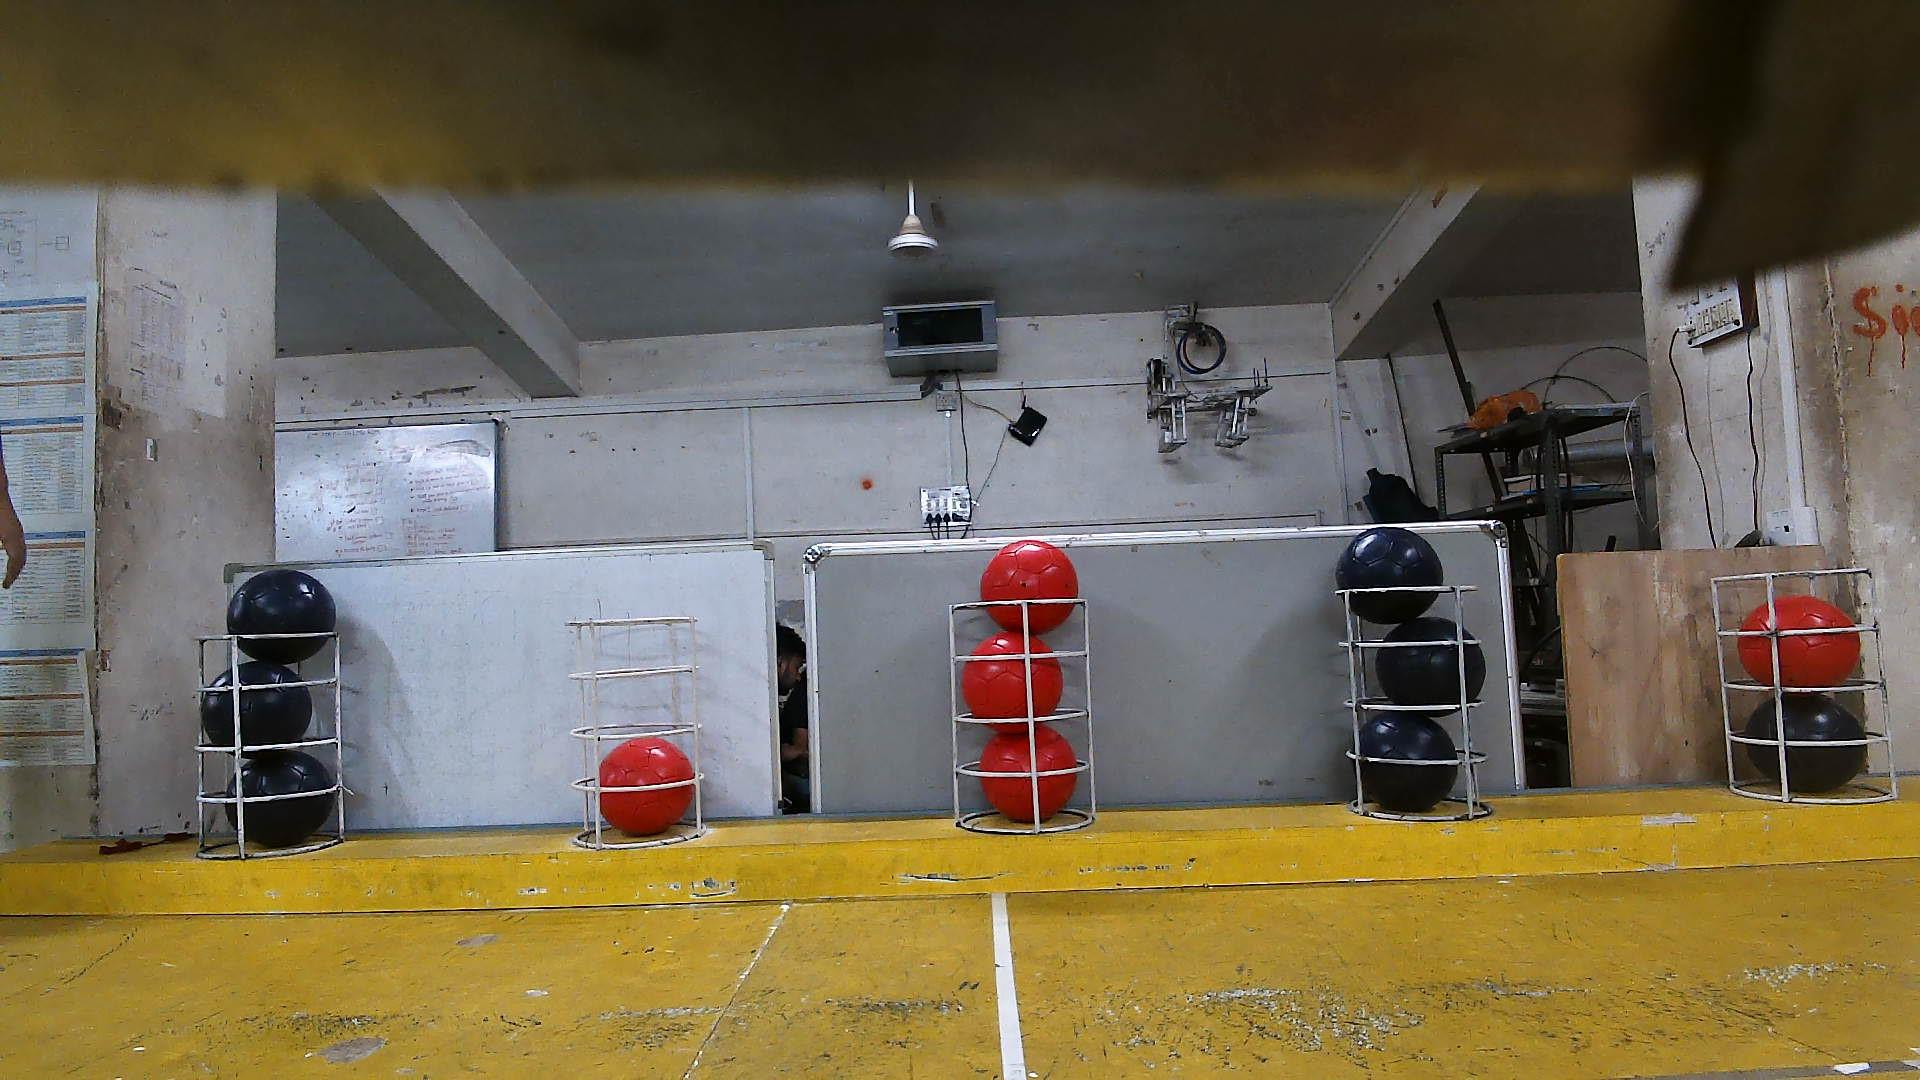dhoka: (1745, 692, 1869, 796), (222, 746, 339, 848), (1335, 525, 1444, 622), (1357, 708, 1458, 812), (225, 570, 338, 663), (1377, 617, 1486, 711), (199, 661, 311, 750)
laale: (1737, 596, 1859, 686), (960, 630, 1065, 732), (978, 541, 1080, 634), (600, 735, 694, 836), (978, 728, 1076, 822)
